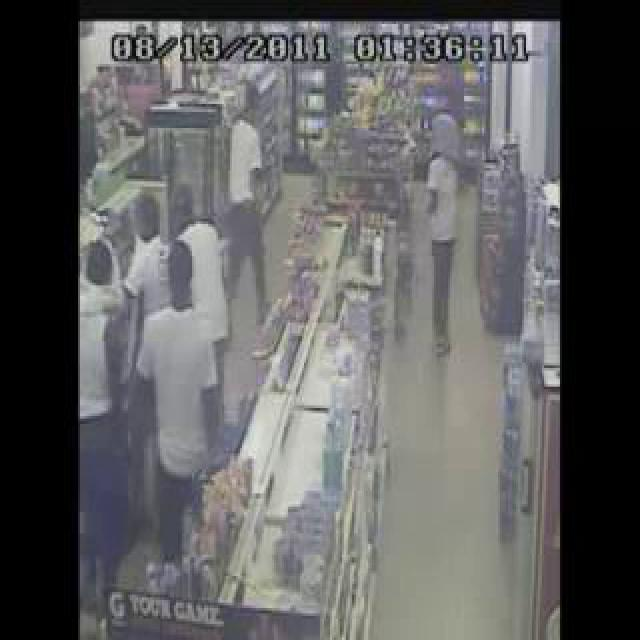burglary: (83, 99, 469, 640)
